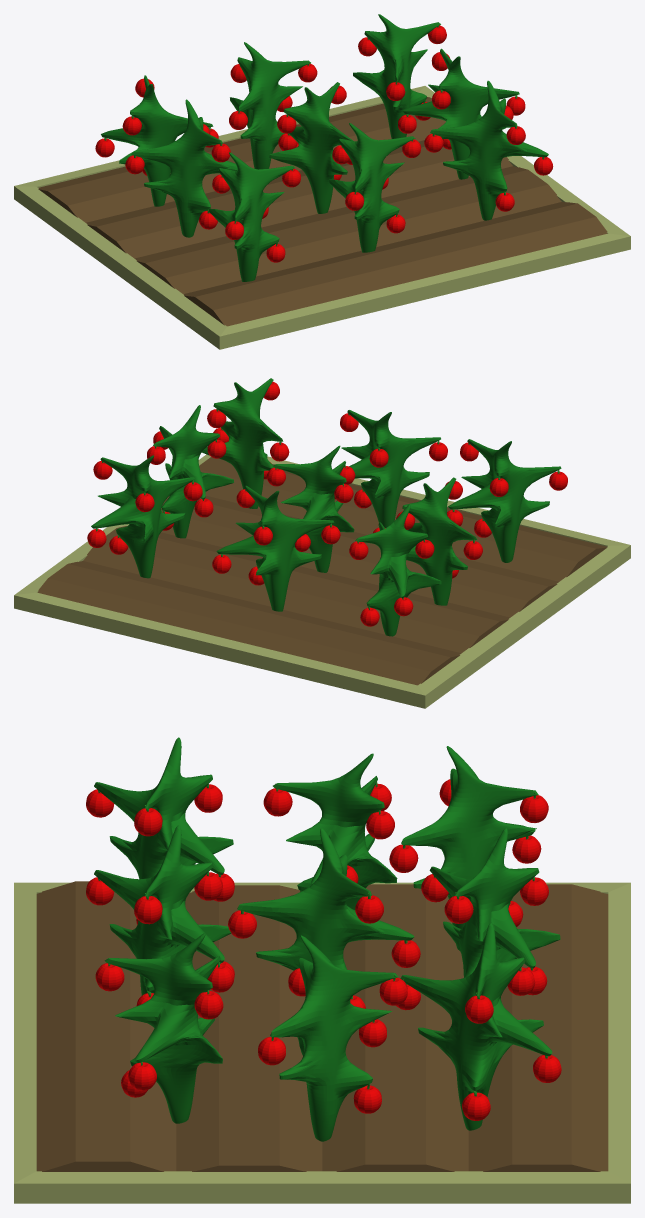
The model's file is помидоры на грядке (2).fbx.
The picture shows the model from 3 angles, top to bottom: view 1: azimuth 30°, elevation 25°; view 2: azimuth 150°, elevation 25°; view 3: azimuth 270°, elevation 25°; orthographic projection. The views are drawn at different scales.
Visible parts, largest first — view 1: Cube, Cube.001, Sphere.088, Sphere.065, Sphere, Sphere.087, Sphere.066, Sphere.043, Sphere.022, Sphere.021, Sphere.044; view 2: Cube, Cube.001, Sphere.022, Sphere.066, Sphere.043, Sphere.087, Sphere.088, Sphere.044, Sphere.065, Sphere, Sphere.021; view 3: Cube, Cube.001, Sphere.021, Sphere.088, Sphere.022, Sphere, Sphere.087, Sphere.044, Sphere.043, Sphere.066, Sphere.065, Sphere.098 (+19 smaller).
Part boxes in pixels (x1,y1,x2,y2): Cube: (38,97,607,326); Cube.001: (14,86,630,349); Sphere.088: (430,80,548,220); Sphere.065: (131,99,237,237); Sphere: (269,82,352,213); Sphere.087: (329,123,415,252); Sphere.066: (209,152,295,281); Sphere.043: (230,42,310,169); Sphere.022: (353,14,440,138); Sphere.021: (402,48,519,179); Sphere.044: (101,75,213,206); Cube: (38,457,607,685); Cube.001: (14,454,630,708); Sphere.022: (91,455,195,578); Sphere.066: (448,439,561,562); Sphere.043: (216,485,334,611); Sphere.087: (341,410,440,527); Sphere.088: (201,378,283,508); Sphere.044: (355,504,441,636); Sphere.065: (402,477,477,605); Sphere: (273,445,354,572); Sphere.021: (153,405,233,538); Cube: (36,881,608,1171); Cube.001: (14,882,630,1203); Sphere.021: (270,935,398,1141); Sphere.088: (104,933,222,1123); Sphere.022: (400,923,552,1130); Sphere: (237,828,414,970); Sphere.087: (94,825,231,995); Sphere.044: (401,746,538,950); Sphere.043: (429,828,560,977); Sphere.066: (94,737,233,879); Sphere.065: (273,753,397,909); Sphere.098: (194,991,223,1019).
Bounding box in the file's own units: 650 × 214 × 563.
